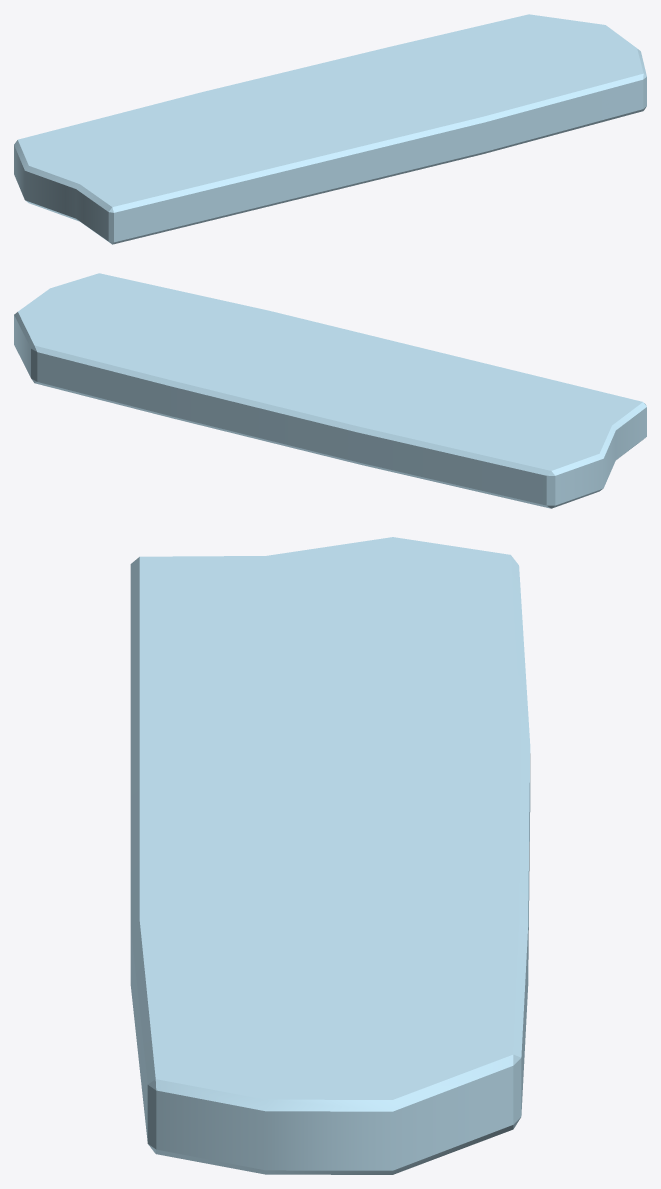
The model's file is Step3.fbx.
The picture shows the model from 3 angles, top to bottom: view 1: azimuth 30°, elevation 25°; view 2: azimuth 150°, elevation 25°; view 3: azimuth 270°, elevation 25°; orthographic projection. The views are drawn at different scales.
Visible parts, largest first — view 1: Step3_LOD0; view 2: Step3_LOD0; view 3: Step3_LOD0.
Part boxes in pixels (x1,y1,x2,y2): Step3_LOD0: [14, 14, 646, 244]; Step3_LOD0: [14, 273, 646, 508]; Step3_LOD0: [130, 537, 530, 1174].
Size of what is drawn, in the model's own units: 767 by 47.02 by 227.
